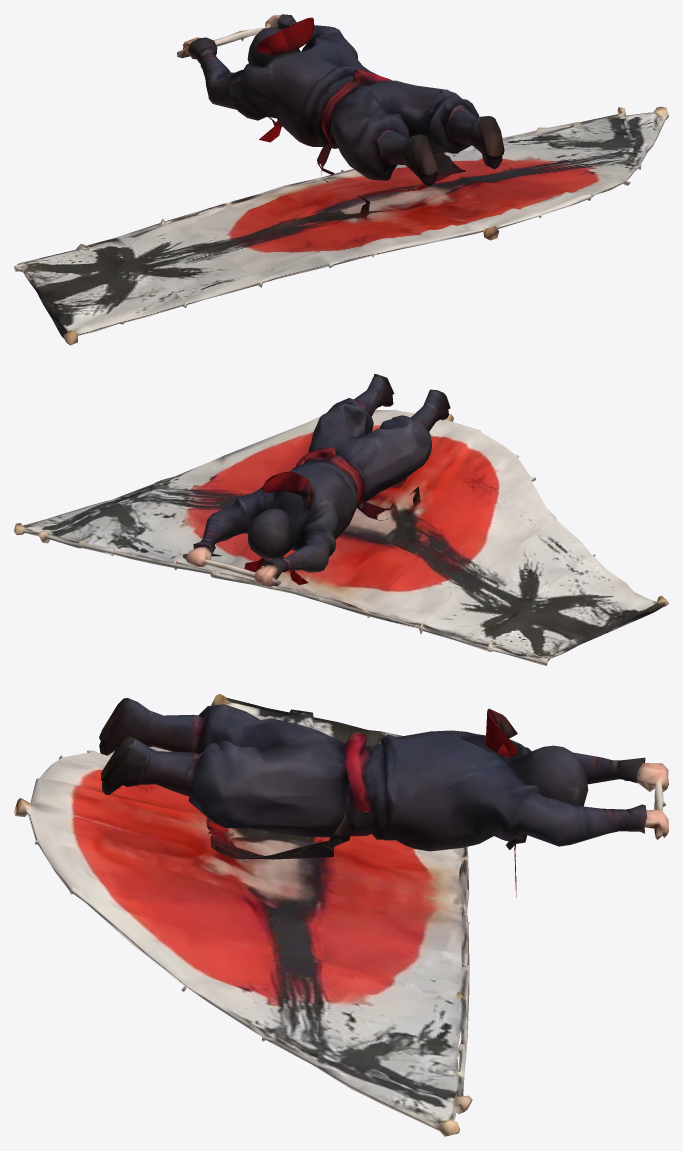
The model's file is y_ninjakite.glb.
3 views of the same model, one above another, from view 1: azimuth 30°, elevation 25°; view 2: azimuth 150°, elevation 25°; view 3: azimuth 270°, elevation 25° (orthographic). The views are drawn at different scales.
Visible parts, largest first — view 1: tripo_node_bff9dbb1-a1ee-47ad-9bb8-8a038644439f; view 2: tripo_node_bff9dbb1-a1ee-47ad-9bb8-8a038644439f; view 3: tripo_node_bff9dbb1-a1ee-47ad-9bb8-8a038644439f.
Boxes of the visible parts, bbox=[...] form: tripo_node_bff9dbb1-a1ee-47ad-9bb8-8a038644439f: bbox=[14, 14, 668, 345]; tripo_node_bff9dbb1-a1ee-47ad-9bb8-8a038644439f: bbox=[14, 374, 668, 665]; tripo_node_bff9dbb1-a1ee-47ad-9bb8-8a038644439f: bbox=[14, 694, 668, 1136].
Size of the model in its own units: 0.9992 by 0.2359 by 0.658.
Materials: 1 (1 with a texture image).
